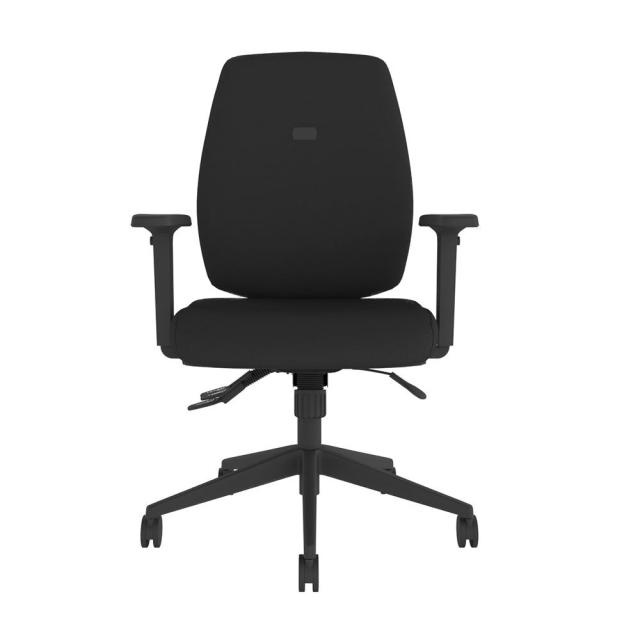chair: (130, 50, 481, 593)
